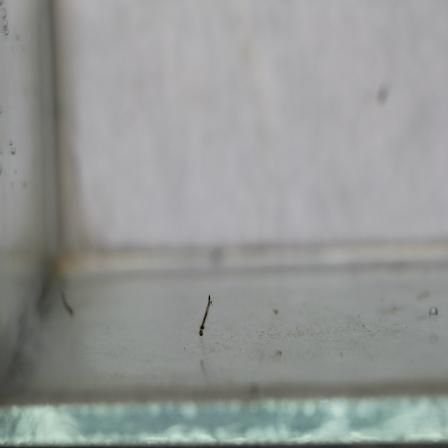Jentik-Nyamuk: (194, 288, 217, 345)
